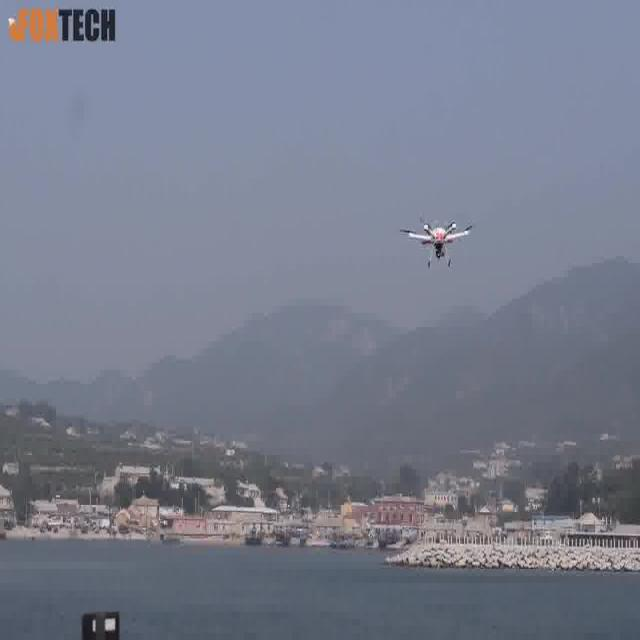Drone_FW: (399, 212, 473, 270)
